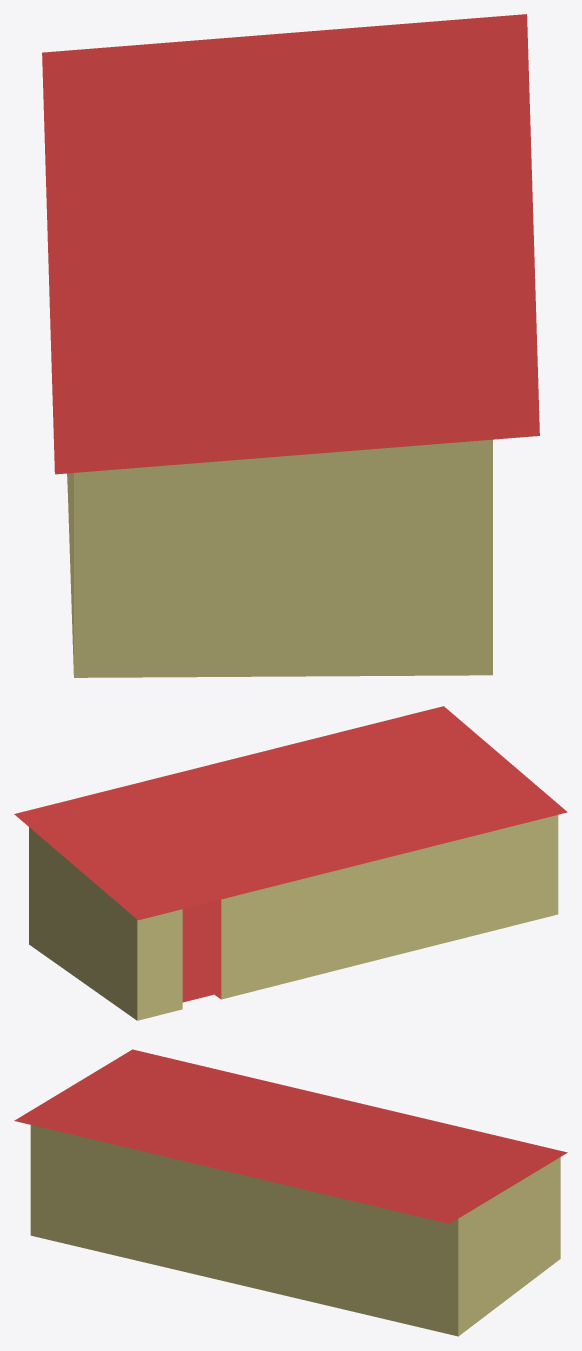
The picture shows the model from 3 angles, top to bottom: view 1: azimuth 30°, elevation 25°; view 2: azimuth 150°, elevation 25°; view 3: azimuth 270°, elevation 25°; orthographic projection. The views are drawn at different scales.
Bounding box in the file's own units: 32.85 × 39.94 × 9.72.
